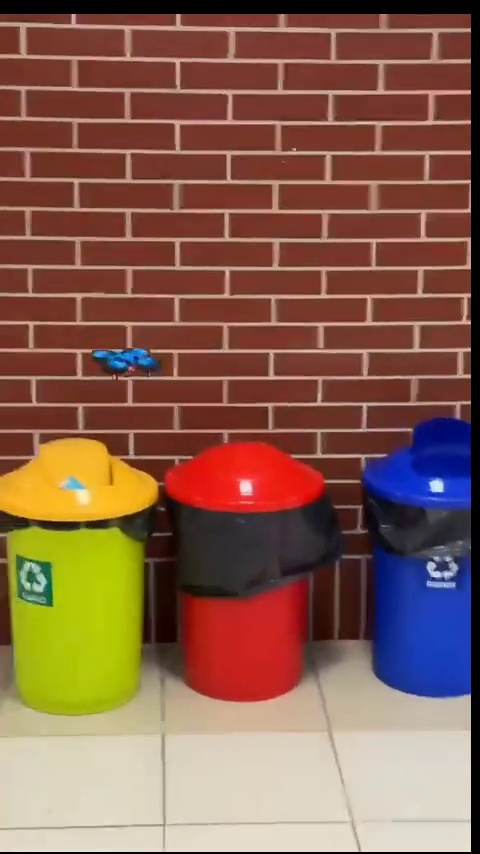drone: (90, 344, 166, 377)
